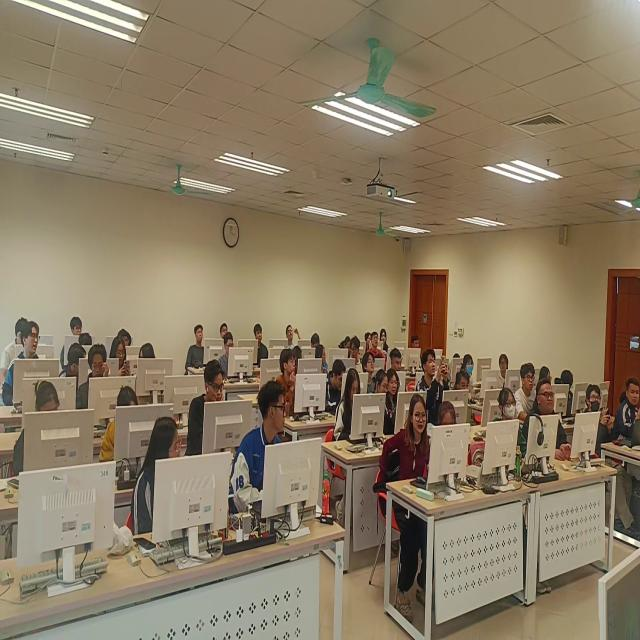raise_hand: (285, 318, 301, 352)
raise_head: (522, 381, 574, 474), (572, 368, 616, 465), (185, 361, 226, 459), (611, 356, 640, 462), (490, 383, 518, 478), (516, 352, 541, 424), (62, 310, 85, 366), (186, 319, 207, 375), (252, 321, 269, 375), (453, 365, 472, 412), (366, 330, 384, 365), (462, 350, 476, 387), (499, 348, 511, 389), (118, 325, 133, 356), (380, 326, 390, 355), (365, 328, 372, 357), (219, 320, 229, 340)
using_computer: (15, 376, 63, 484), (99, 381, 141, 479), (77, 335, 112, 411), (434, 390, 462, 465), (338, 366, 363, 444), (3, 317, 29, 374), (371, 358, 391, 424), (323, 357, 346, 413), (559, 355, 578, 417), (219, 329, 239, 384), (386, 355, 402, 418), (538, 351, 554, 402), (309, 325, 321, 353), (338, 330, 352, 351), (412, 334, 420, 353)
using_phone: (417, 342, 452, 414), (109, 335, 130, 385)
